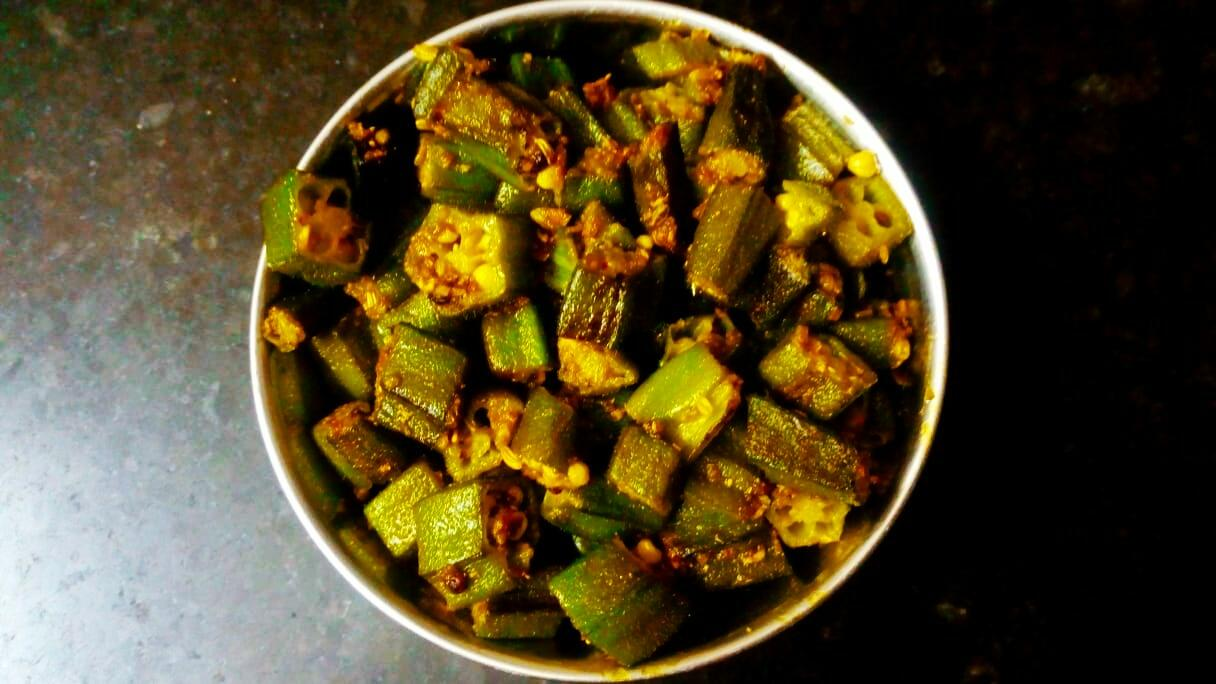bhindi: (329, 103, 907, 612)
